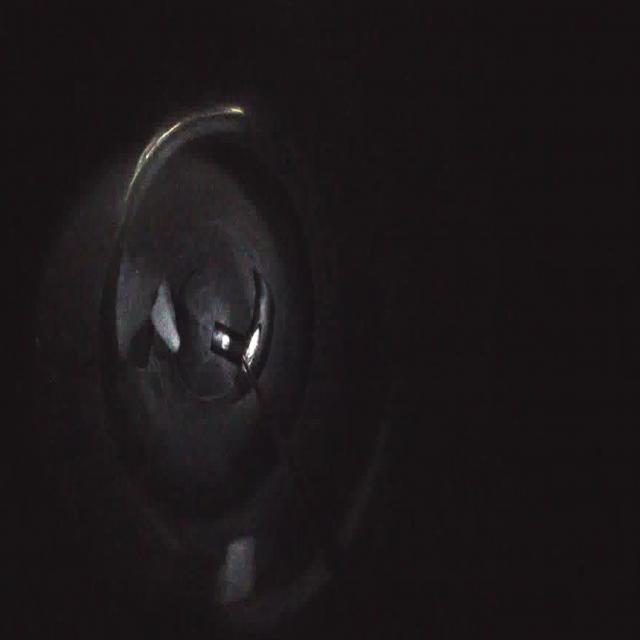impurity: (148, 274, 184, 356)
